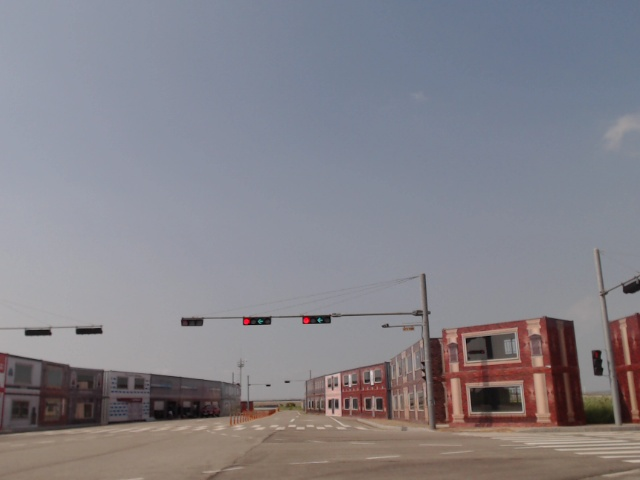left_green_4: (303, 316, 330, 324), (244, 318, 271, 325)
